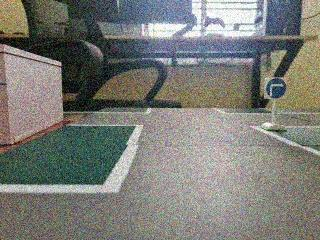right: (263, 73, 290, 106)
